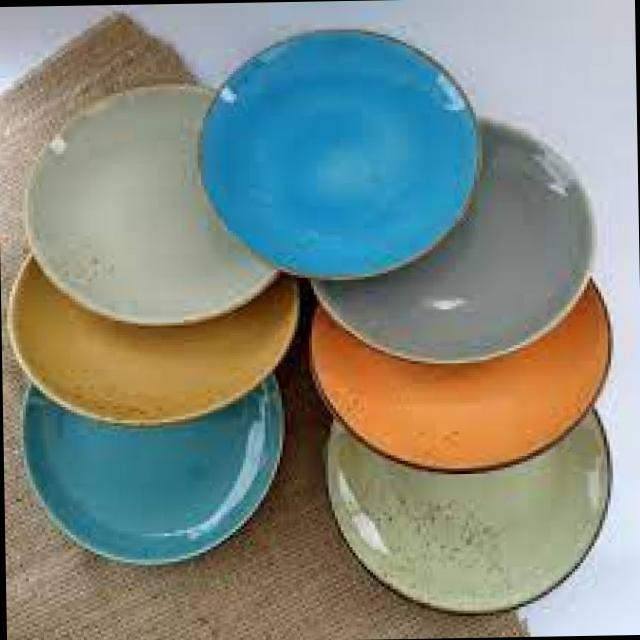plate: (184, 17, 496, 292), (327, 422, 620, 610), (18, 388, 294, 567)
